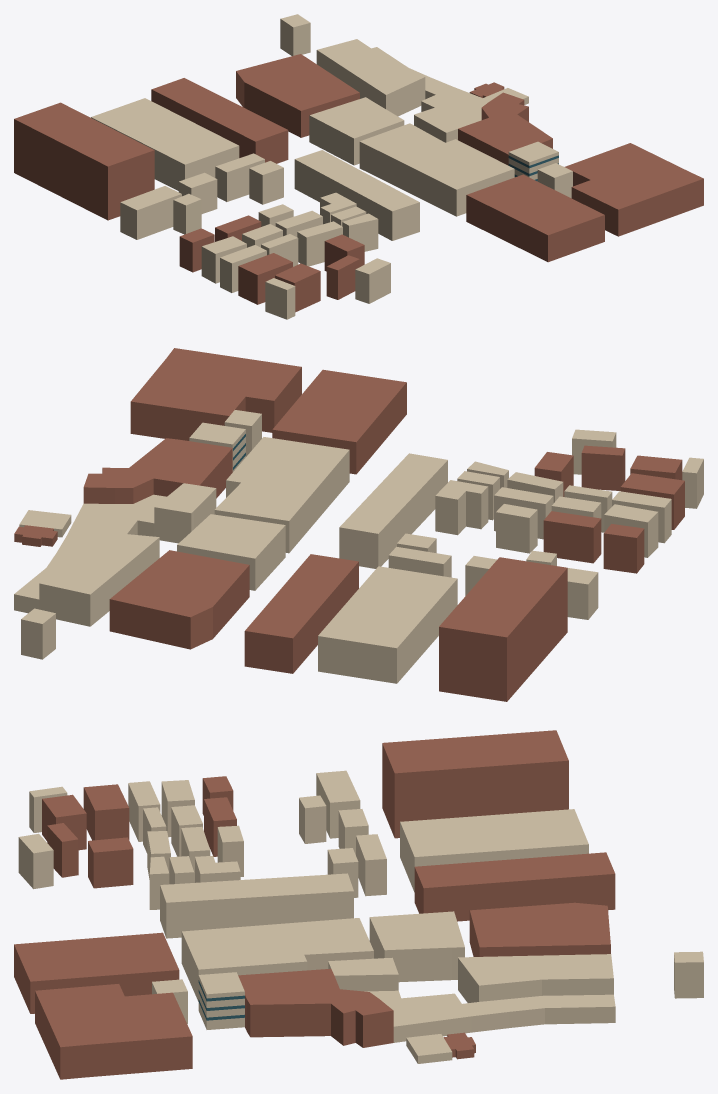
The model's file is city_-2_-5.glb.
The picture shows the model from 3 angles, top to bottom: view 1: azimuth 30°, elevation 25°; view 2: azimuth 150°, elevation 25°; view 3: azimuth 270°, elevation 25°; orthographic projection. The views are drawn at different scales.
Visible parts, largest first — view 1: city_-2_-5; view 2: city_-2_-5; view 3: city_-2_-5.
Boxes of the visible parts, x1,y1,x2,y2 form: city_-2_-5: [14, 14, 703, 319]; city_-2_-5: [14, 348, 703, 701]; city_-2_-5: [14, 730, 703, 1079].
Size of the model in its own units: 255 by 27.2 by 262.
